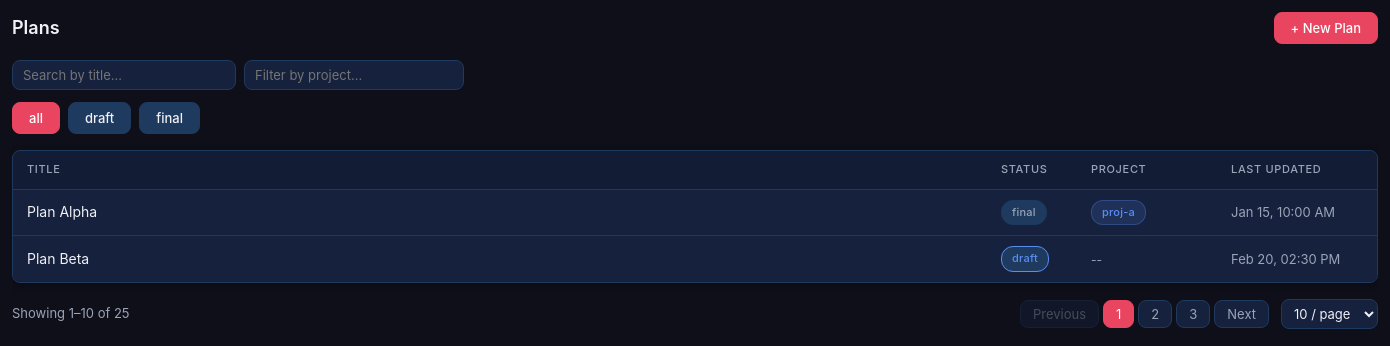
PlansIndexPage › ignores late search responses after clearing and preserves the current list
This screenshot has width=1390, height=346.
Expected: the text "Plan Alpha" is shown, [13,189,987,236]
Type "Old" into the field with placeholder "Search by title...". click: x=124, y=75
box: [12,60,236,90]
Wait 300 ms
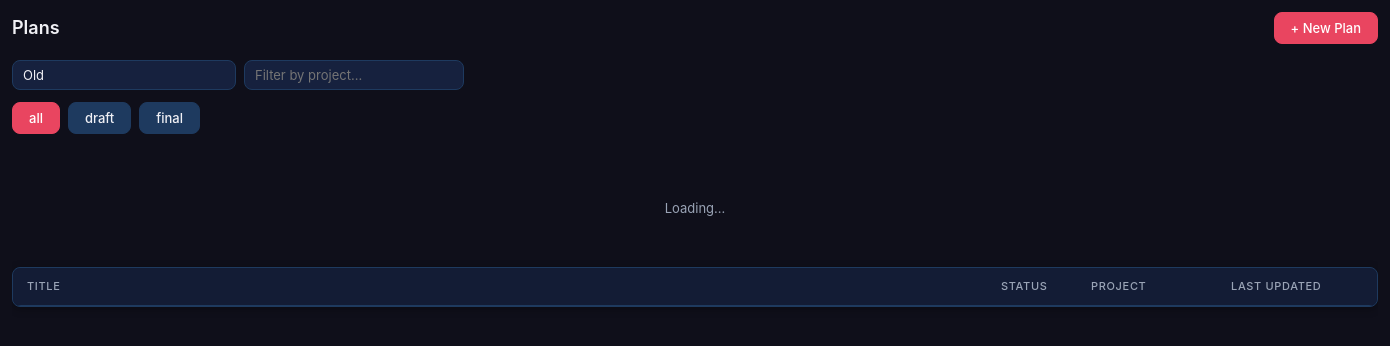
Clear the field with placeholder "Search by title...". click: x=124, y=75
box: [12,60,236,90]
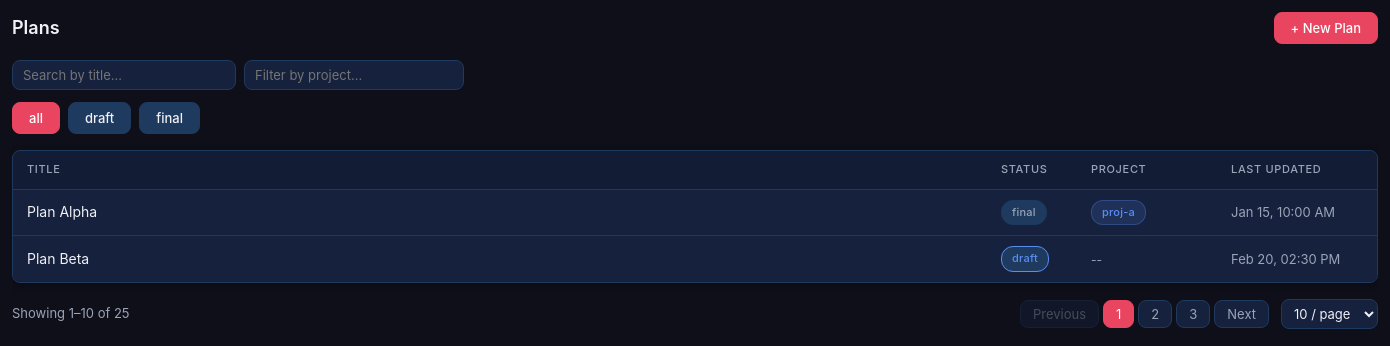
Expected: the text "Plan Alpha" is shown, [13,189,987,236]
